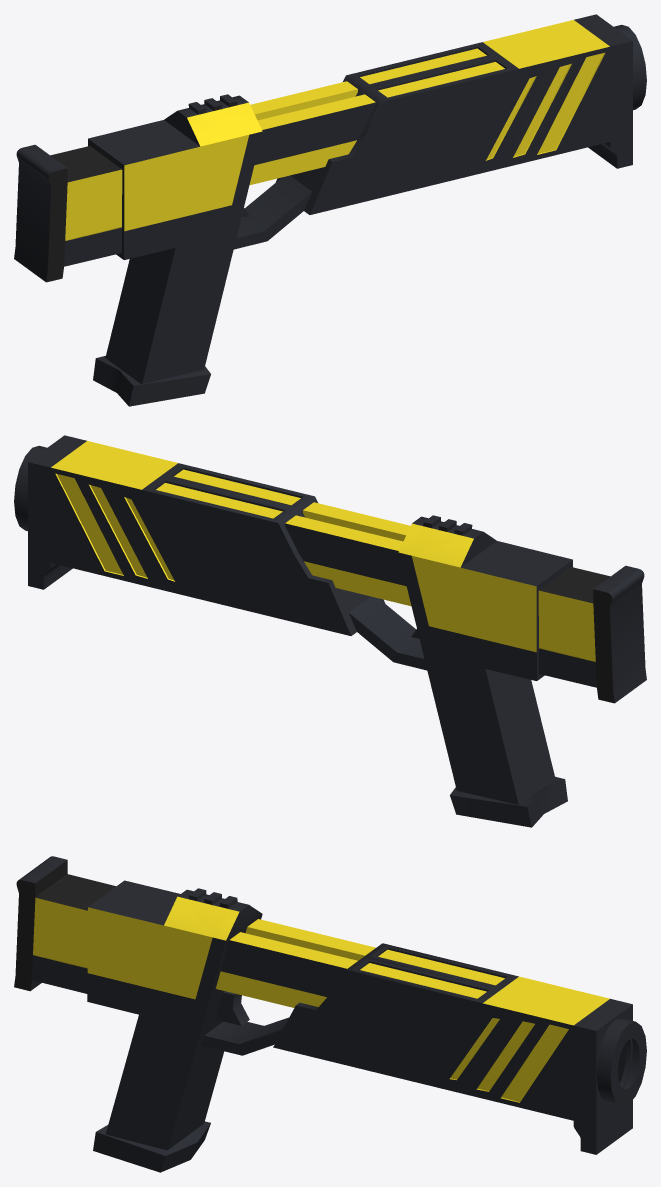
Rendered from weaponNemica.glb.
3 renders of one model, top to bottom at view 1: azimuth 30°, elevation 25°; view 2: azimuth 150°, elevation 25°; view 3: azimuth 330°, elevation 25°, orthographic.
Visible parts, largest first — view 1: weapon; view 2: weapon; view 3: weapon.
Part boxes in pixels (x1,y1,x2,y2): weapon: (14, 14, 646, 406); weapon: (14, 435, 646, 827); weapon: (14, 856, 646, 1172).
Size of the model in its own units: 13.15 by 5.64 by 1.73.
2 materials, 2 textured.
